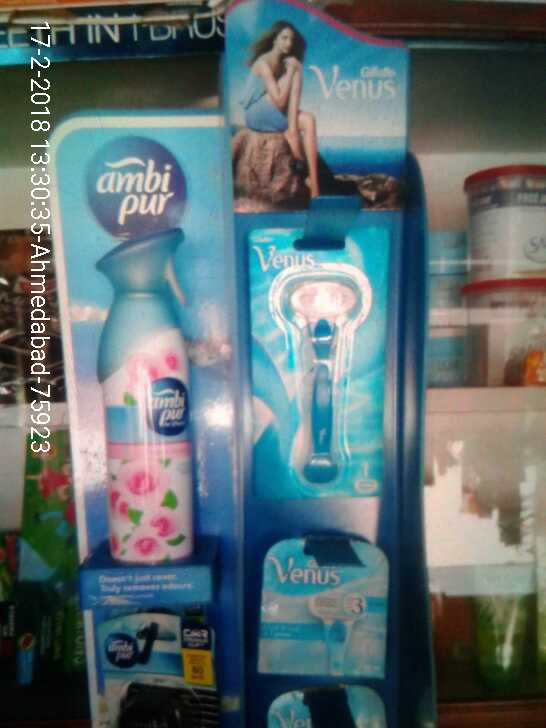beauty: (254, 235, 382, 501), (251, 519, 394, 686)
home: (78, 220, 211, 570)
